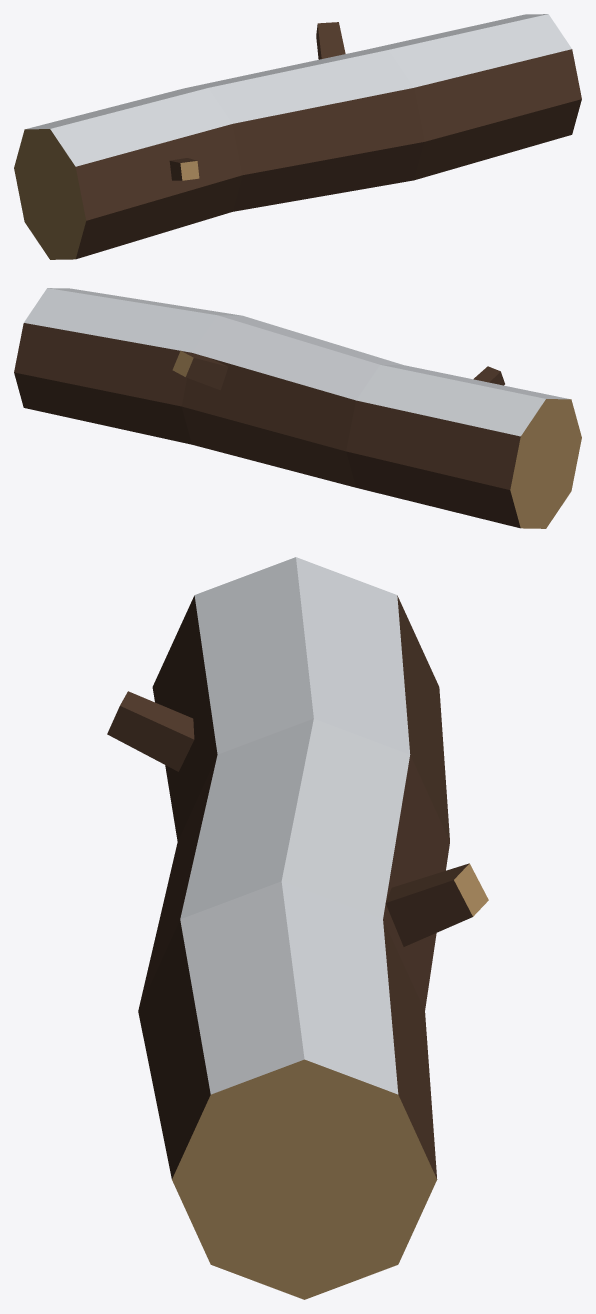
File: fallen_log.glb
The picture shows the model from 3 angles, top to bottom: view 1: azimuth 30°, elevation 25°; view 2: azimuth 150°, elevation 25°; view 3: azimuth 270°, elevation 25°; orthographic projection. The views are drawn at different scales.
Visible parts, largest first — view 1: Log; view 2: Log; view 3: Log.
Part boxes in pixels (<box>): Log: <box>14,14,581,259</box>; Log: <box>14,288,581,528</box>; Log: <box>107,557,488,1299</box>.
Bounding box in the file's own units: 1.6 × 0.4 × 0.5325.
